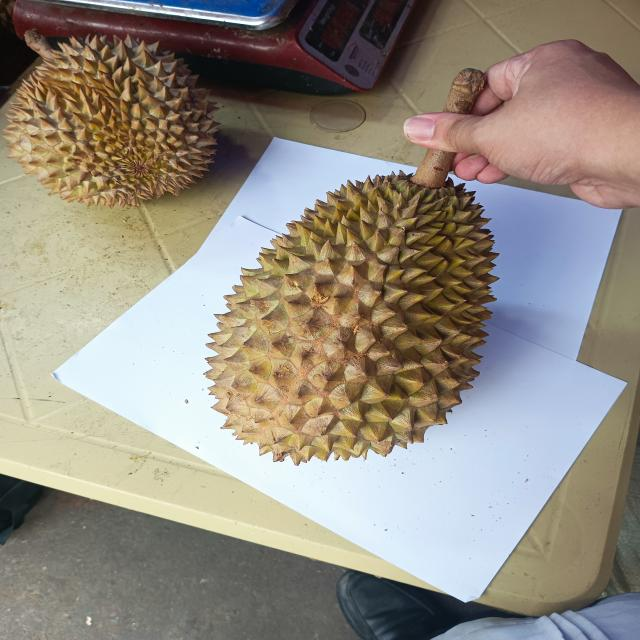mature: (201, 165, 496, 462), (2, 29, 222, 210)
